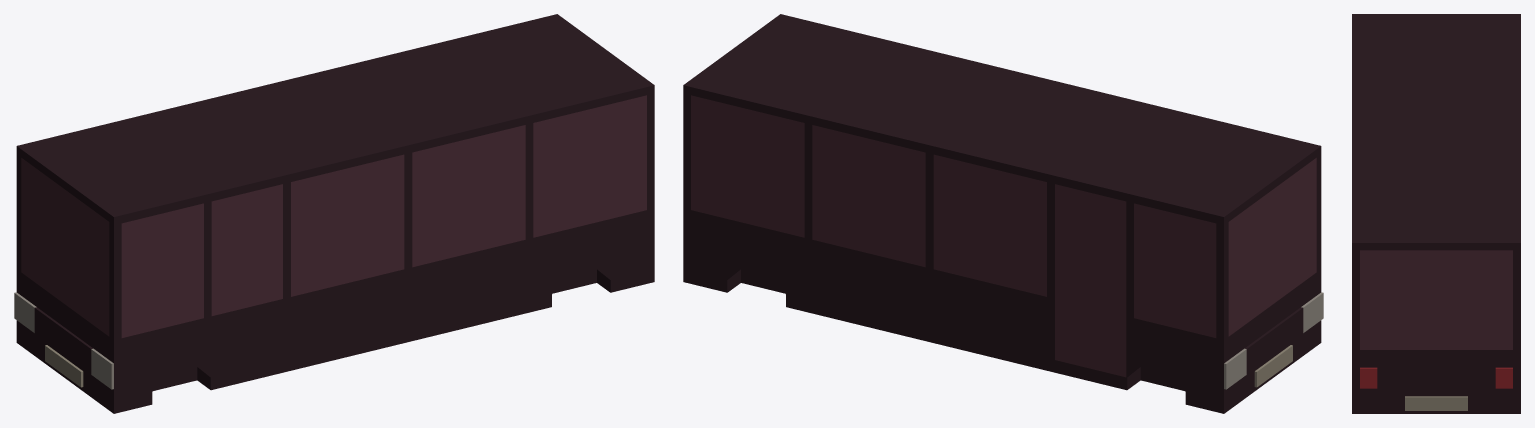
File: Bus_Black.fbx
The picture shows the model from 3 angles, left to right: view 1: azimuth 30°, elevation 25°; view 2: azimuth 150°, elevation 25°; view 3: azimuth 270°, elevation 25°; orthographic projection. The views are drawn at different scales.
Parts seen in each view (by area): view 1: Bus_Black, Bus_Lights; view 2: Bus_Black, Bus_Lights; view 3: Bus_Black, Bus_Lights.
Part boxes in pixels (<box>): Bus_Black: <box>16,14,654,413</box>; Bus_Lights: <box>14,292,113,389</box>; Bus_Black: <box>683,14,1321,413</box>; Bus_Lights: <box>1224,292,1323,389</box>; Bus_Black: <box>1352,14,1520,413</box>; Bus_Lights: <box>1360,367,1512,388</box>.
Size of the model in its own units: 6.96 by 2.4 by 2.15.
